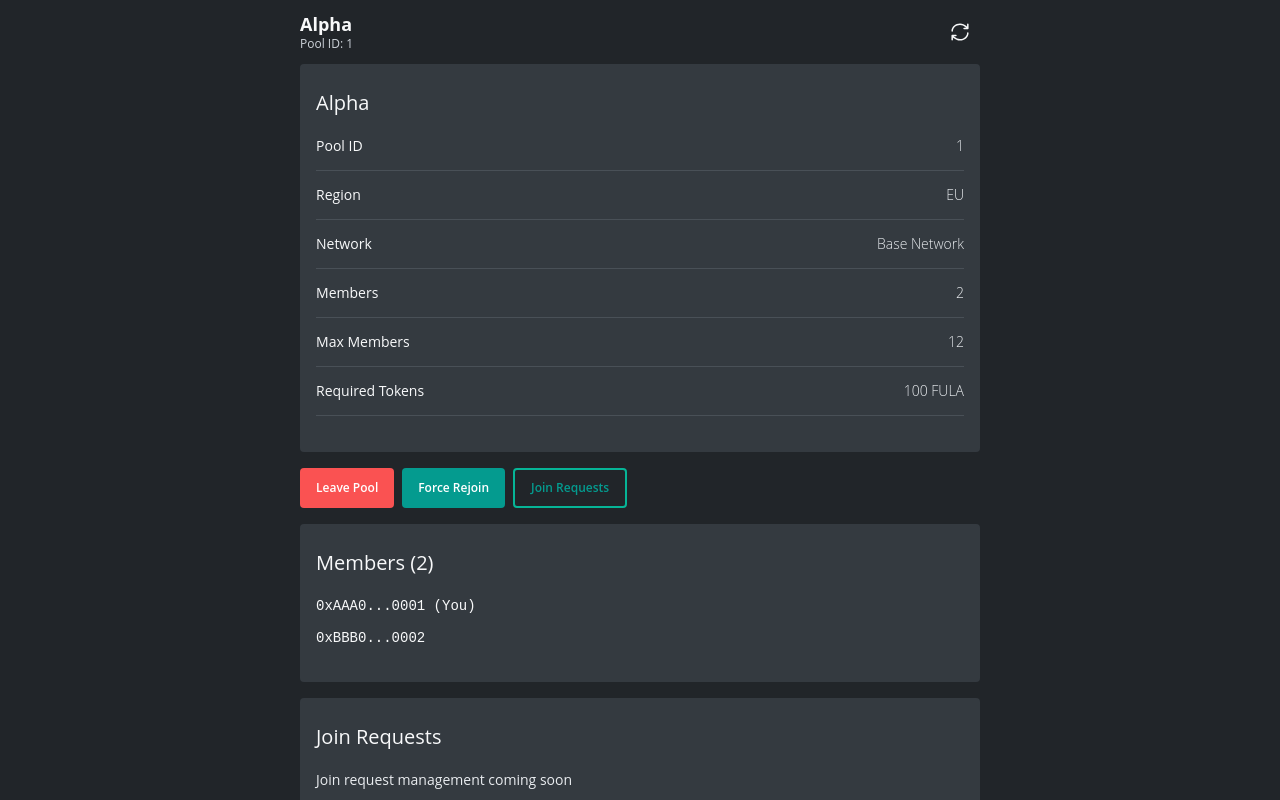
PoolDetails › renders the pool rows, members (contract service) and leaves through the contract with a confirm
Expected: the heading "Alpha" is shown, left=300, top=12, right=352, bottom=36
Expected: the element with test id "pool-details-card" shows "EU", left=946, top=185, right=964, bottom=204
Click the button with test id "pool-details-leave".
click(347, 488)  # box left=300, top=468, right=394, bottom=508
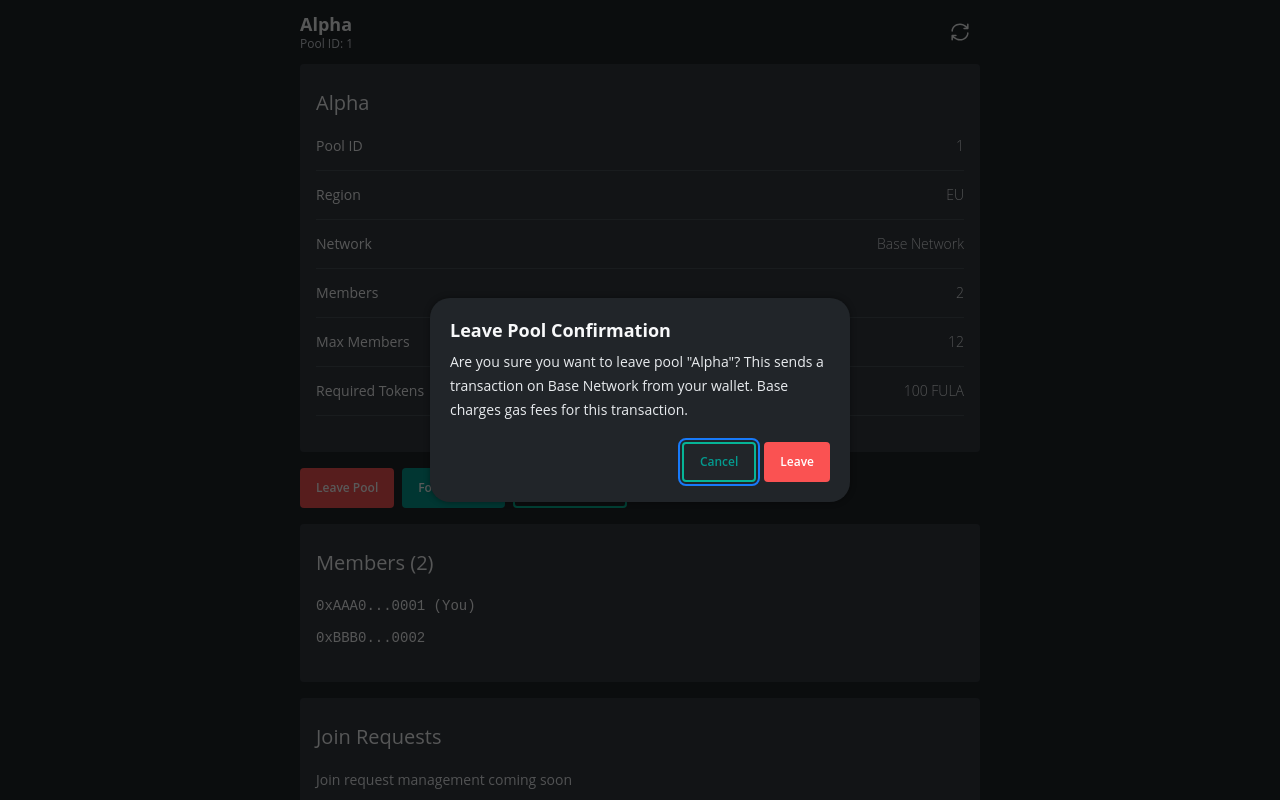
Result: the dialog with test id "fx-confirm" shows "Leave Pool Confirmation" at left=450, top=318, right=671, bottom=342
Result: the dialog with test id "fx-confirm" shows "Base Network" at left=450, top=352, right=824, bottom=419
Result: the dialog with test id "fx-confirm" shows "Base charges gas fees" at left=450, top=352, right=824, bottom=419
Click the button "Leave".
click(797, 462)  # box left=764, top=442, right=830, bottom=482
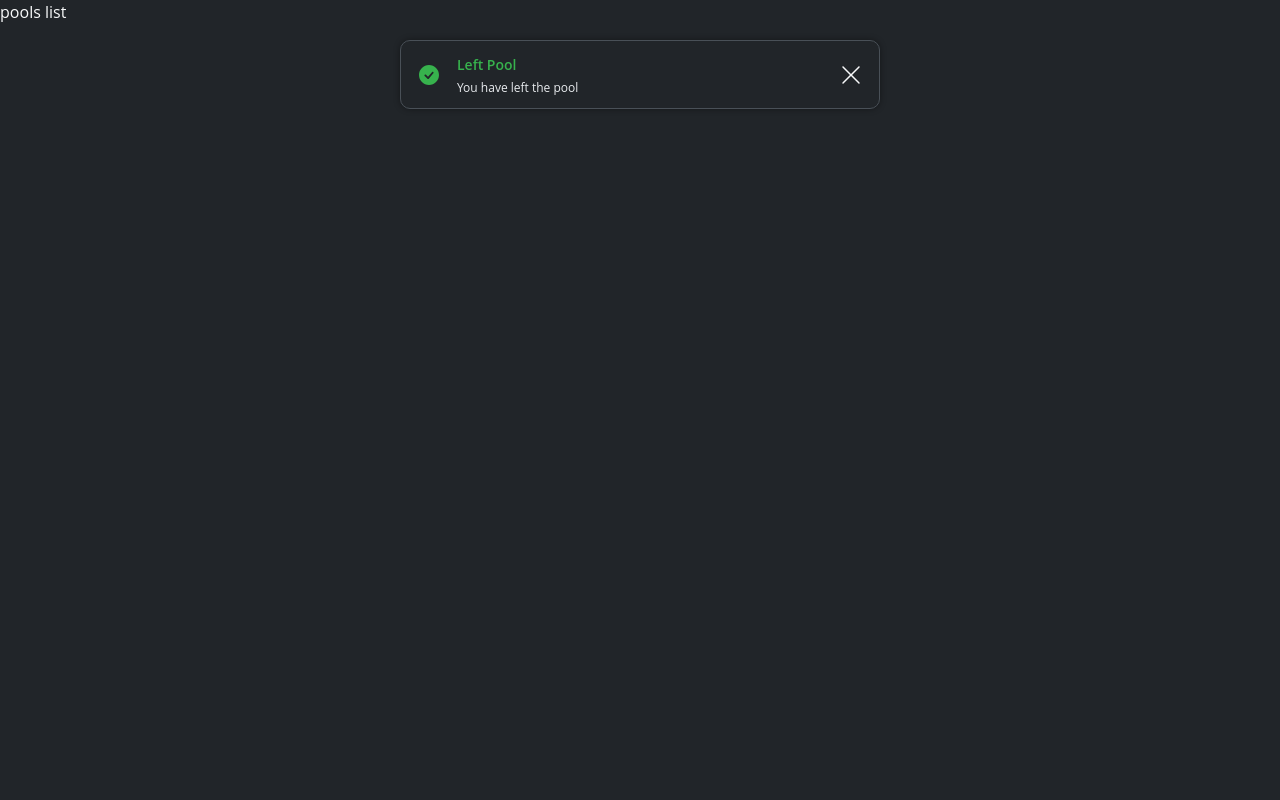
Result: the text "Left Pool" is shown at left=457, top=53, right=516, bottom=77
Result: the dialog with test id "fx-confirm" is gone
